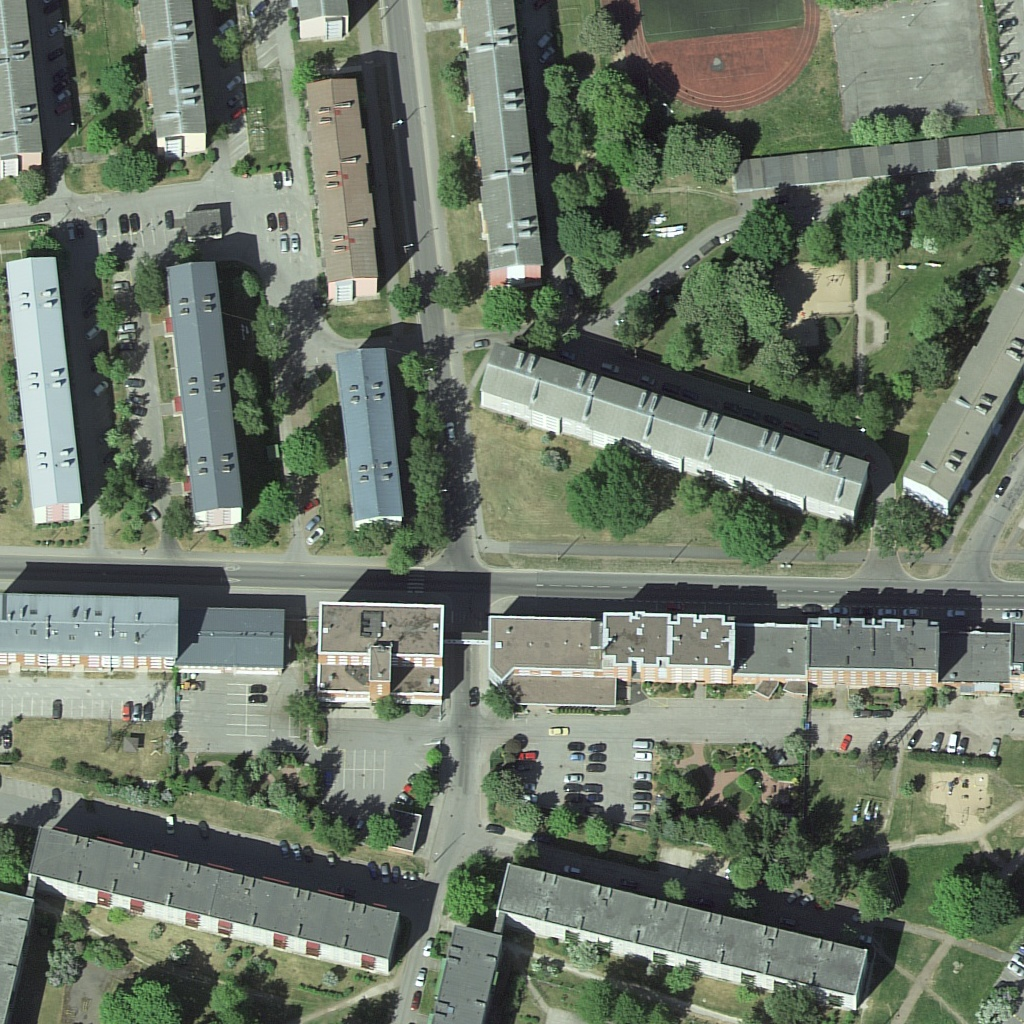building: (475, 343, 872, 526), (25, 823, 409, 976), (492, 864, 871, 1013), (903, 269, 1024, 515), (460, 1, 544, 278), (3, 253, 89, 523), (167, 259, 243, 530), (300, 77, 383, 301), (1, 587, 181, 672), (334, 346, 408, 530), (131, 1, 214, 157), (603, 610, 736, 691), (804, 618, 949, 689), (180, 604, 290, 678), (488, 611, 602, 678), (429, 923, 503, 1024)
